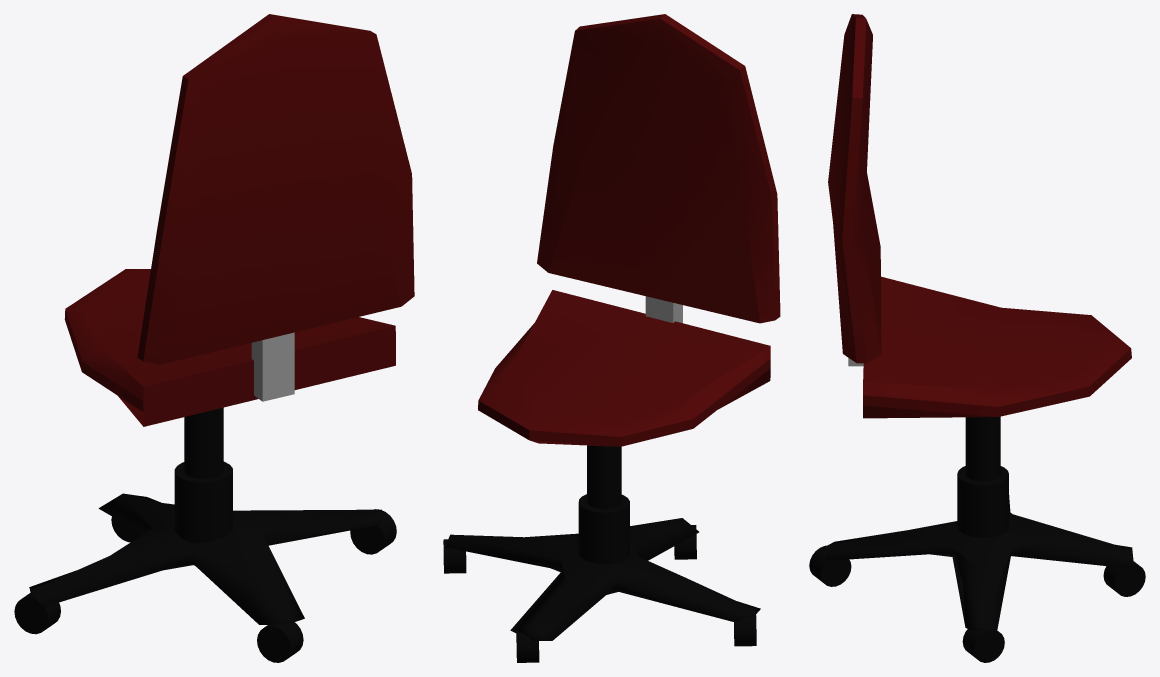
File: sm_chair.fbx
3 views of the same model, side by side, from view 1: azimuth 30°, elevation 25°; view 2: azimuth 150°, elevation 25°; view 3: azimuth 270°, elevation 25° (orthographic). The views are drawn at different scales.
Parts seen in each view (by area): view 1: polySurface556; view 2: polySurface556; view 3: polySurface556.
Boxes of the visible parts, <box> form: polySurface556: <box>14,14,414,662</box>; polySurface556: <box>443,14,780,662</box>; polySurface556: <box>809,14,1145,662</box>.
Size of the model in its own units: 101 by 166 by 88.39.
